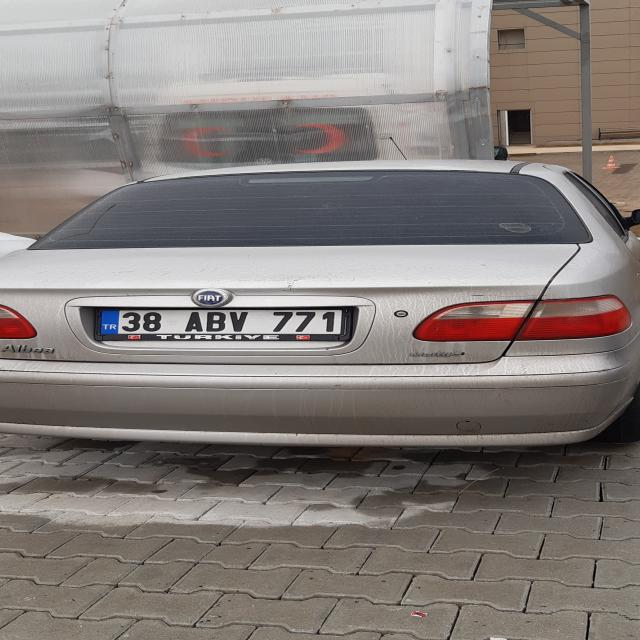plate: (100, 309, 344, 335)
